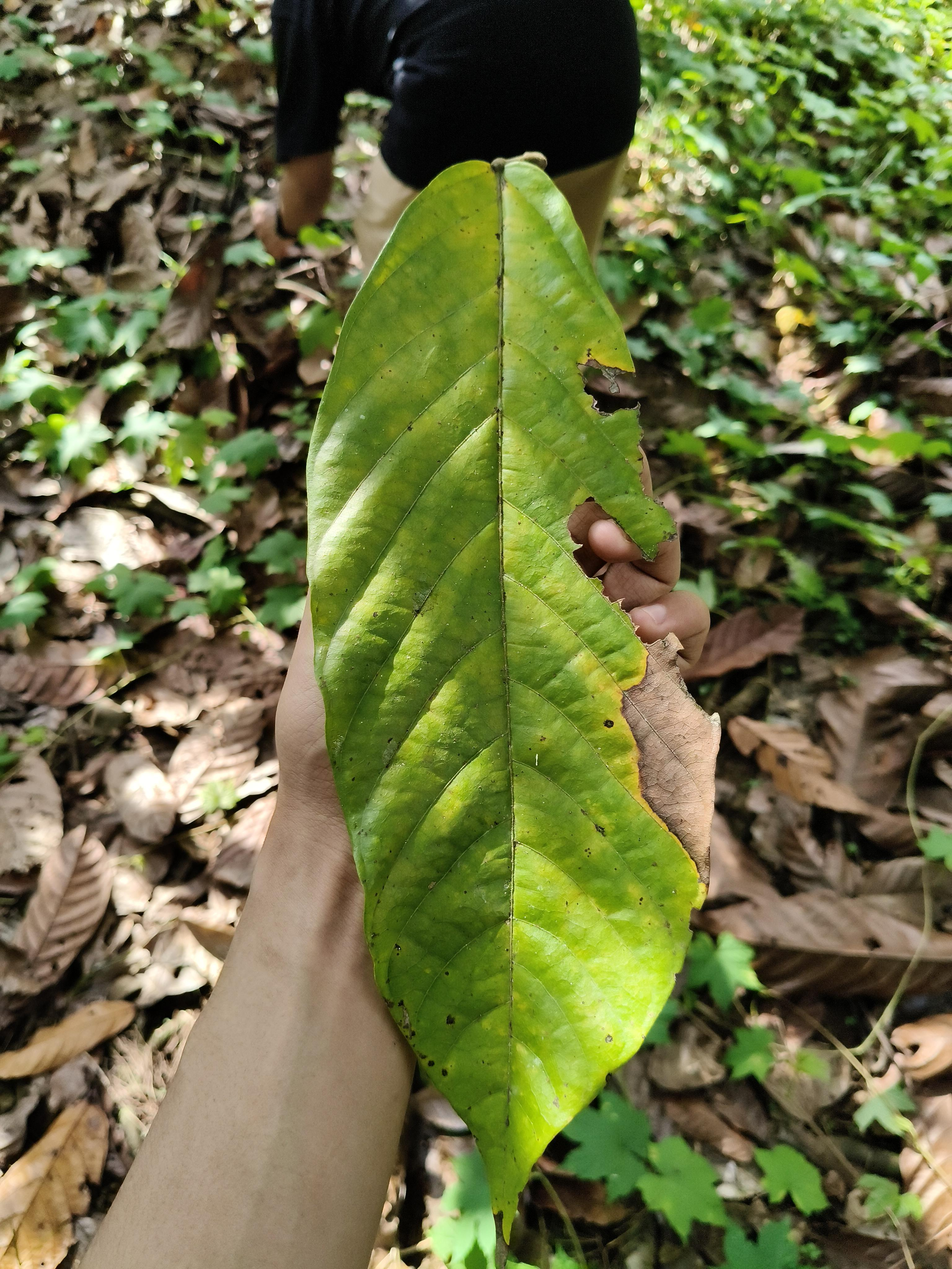deficiencia_potasio: (303, 161, 716, 1254)
